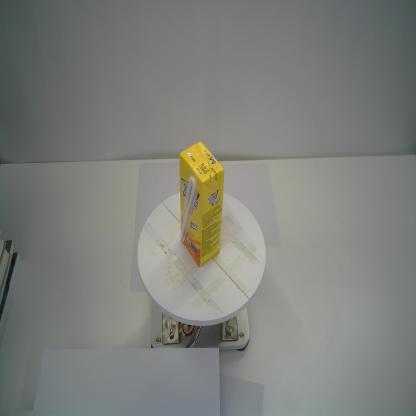Drink: (177, 138, 225, 268)
